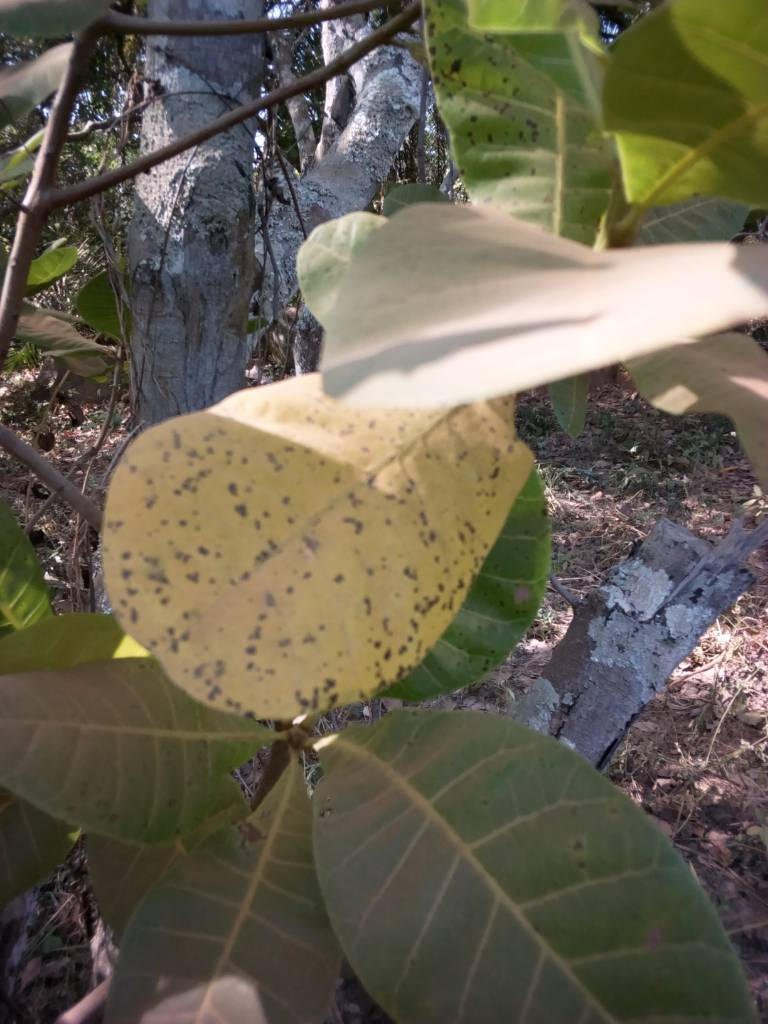Anthracnose: (90, 411, 532, 696), (422, 3, 610, 241), (2, 671, 269, 836)
